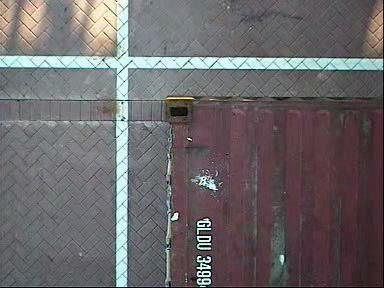groundmarker_2: (160, 125, 228, 230)
